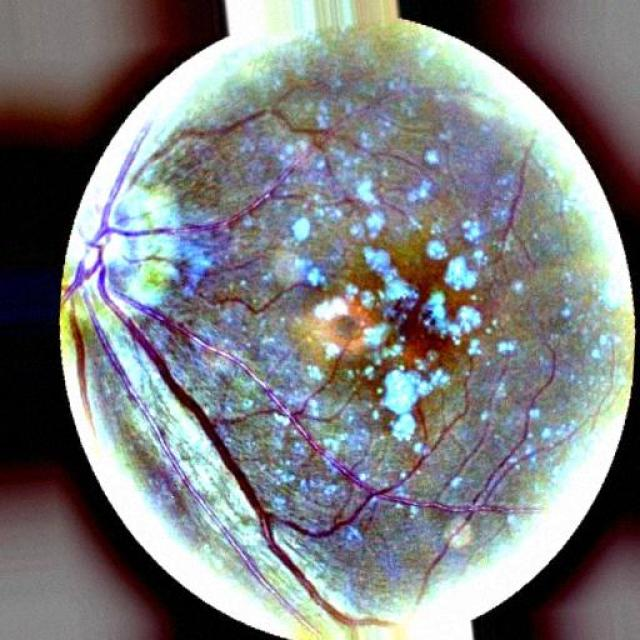Macula: (319, 304, 370, 359)
Nerves: (62, 124, 529, 625)
Optic Disk: (63, 168, 180, 319)
